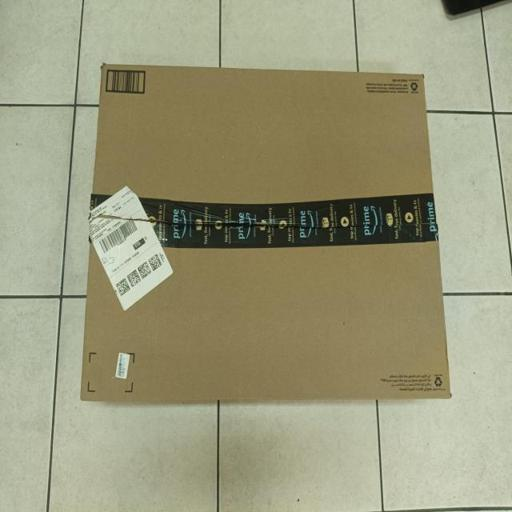Amazon: (75, 59, 456, 404)
